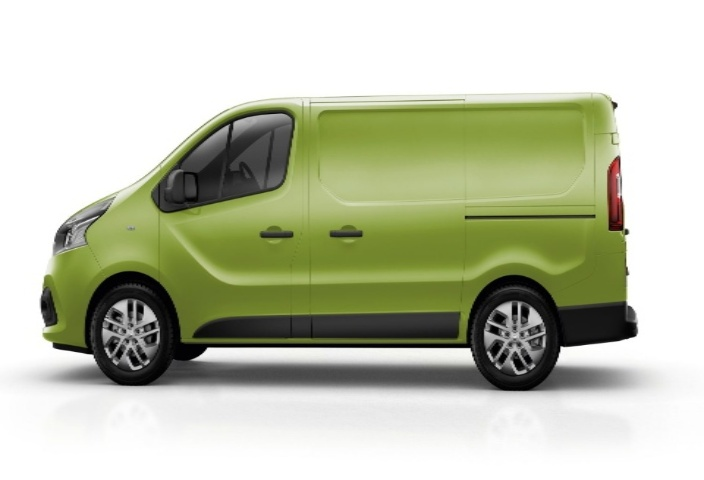van: (26, 81, 645, 404)
